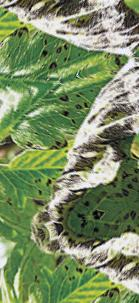Tomato Septoria leaf spot: (0, 52, 139, 267), (0, 36, 139, 168)
